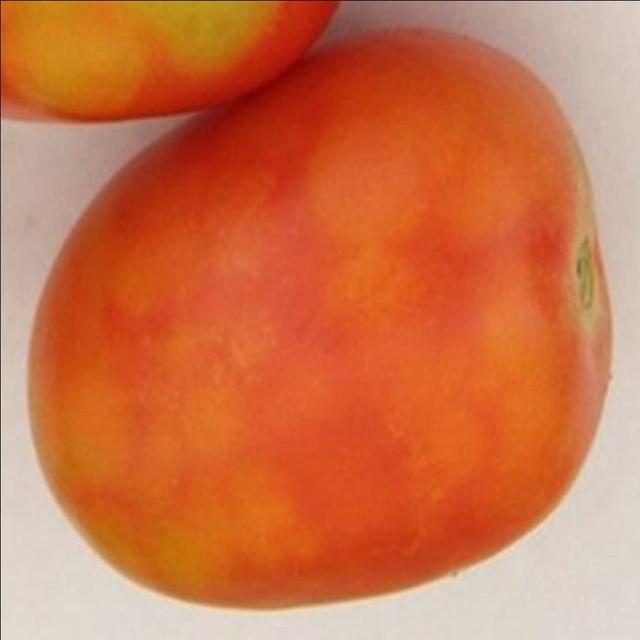Spotted wilt Virus Fruit: (17, 22, 410, 406)
